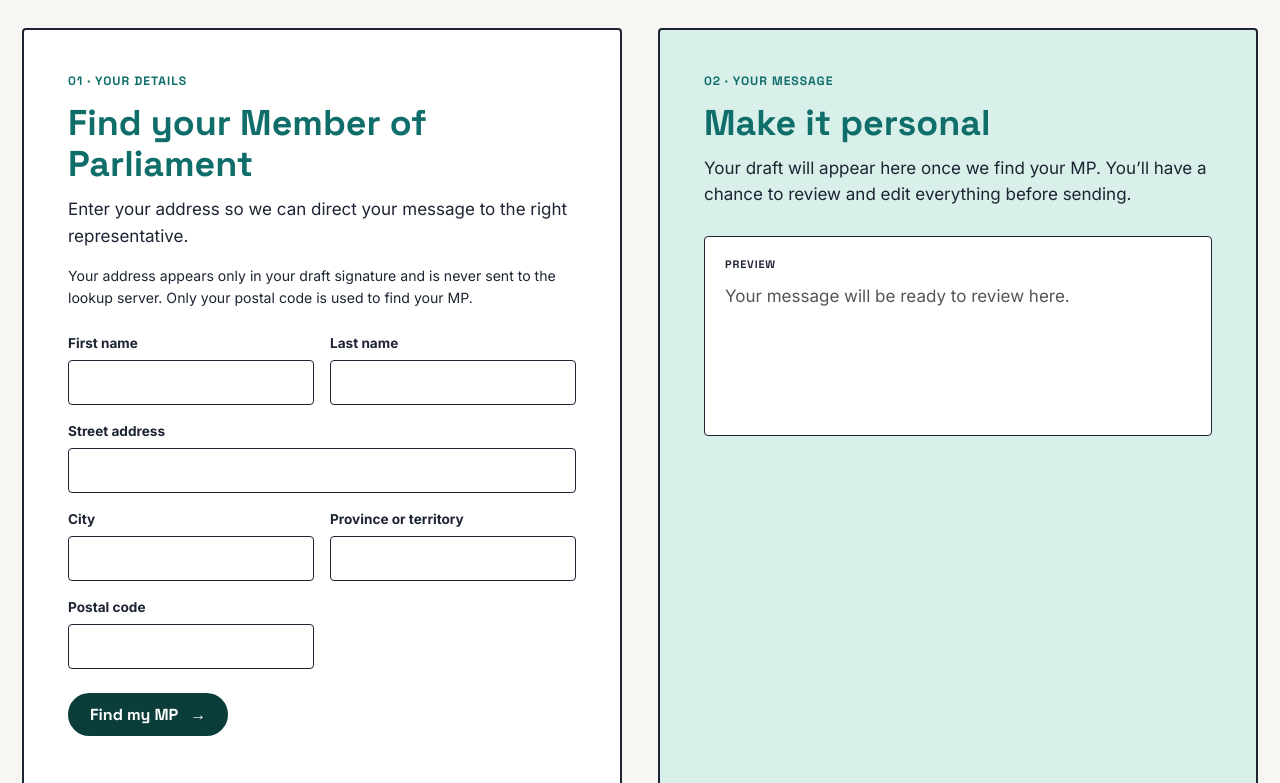
editable draft flow › fetches a letter for the MP riding and fills in the MP, riding, and visitor locally
Type "Ari" into the field labelled "First name". click: [191, 382]
box: top-left (68, 360), bottom-right (314, 405)
Type "Lee" into the field labelled "Last name". click: [453, 382]
box: top-left (330, 360), bottom-right (576, 405)
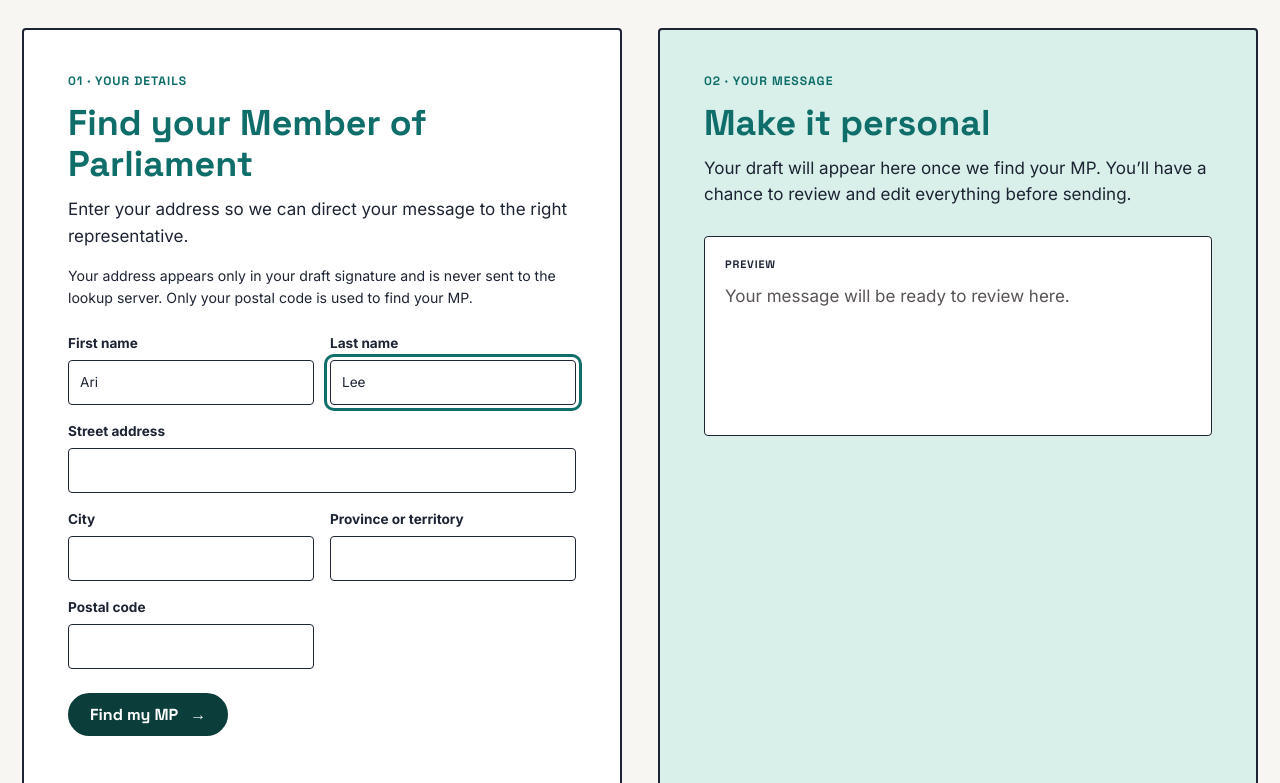
Type "10 Main St" into the field labelled "Street address". click: [322, 470]
box: top-left (68, 448), bottom-right (576, 493)
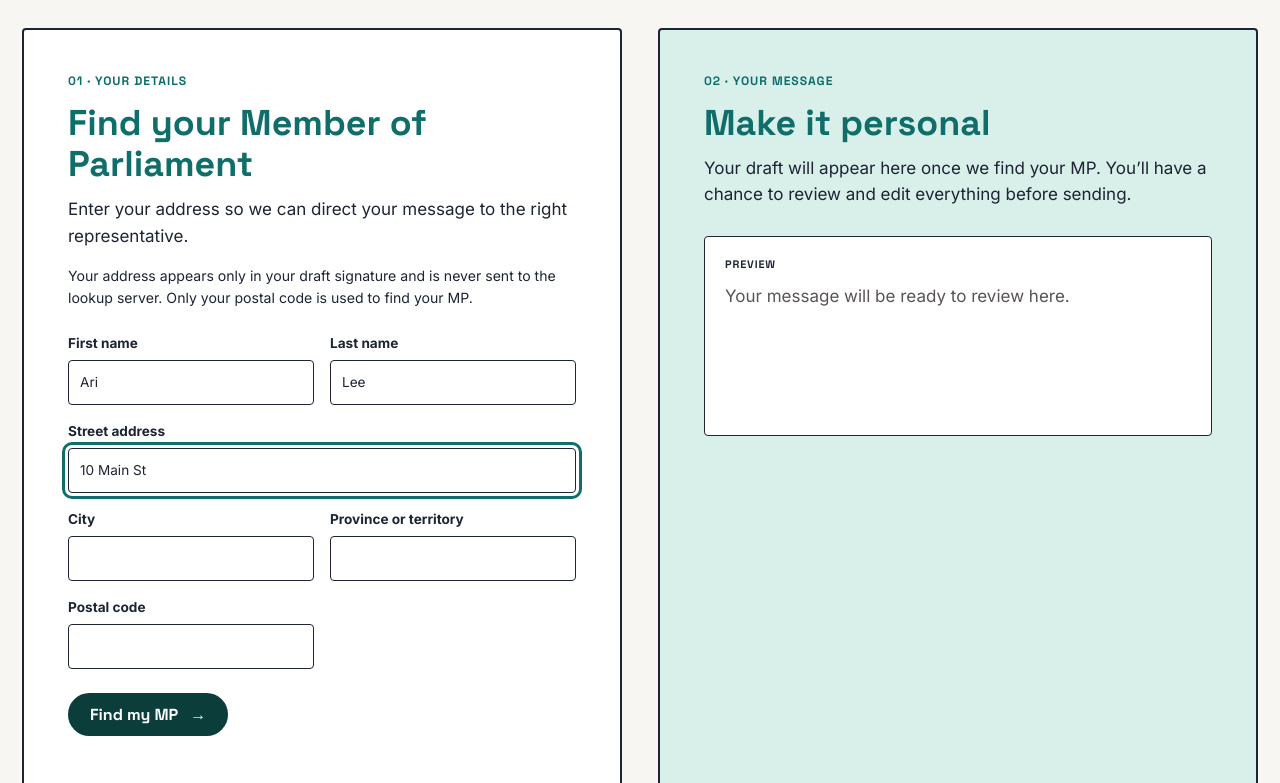
Type "Ottawa" into the field labelled "City". click: [191, 558]
box: top-left (68, 536), bottom-right (314, 581)
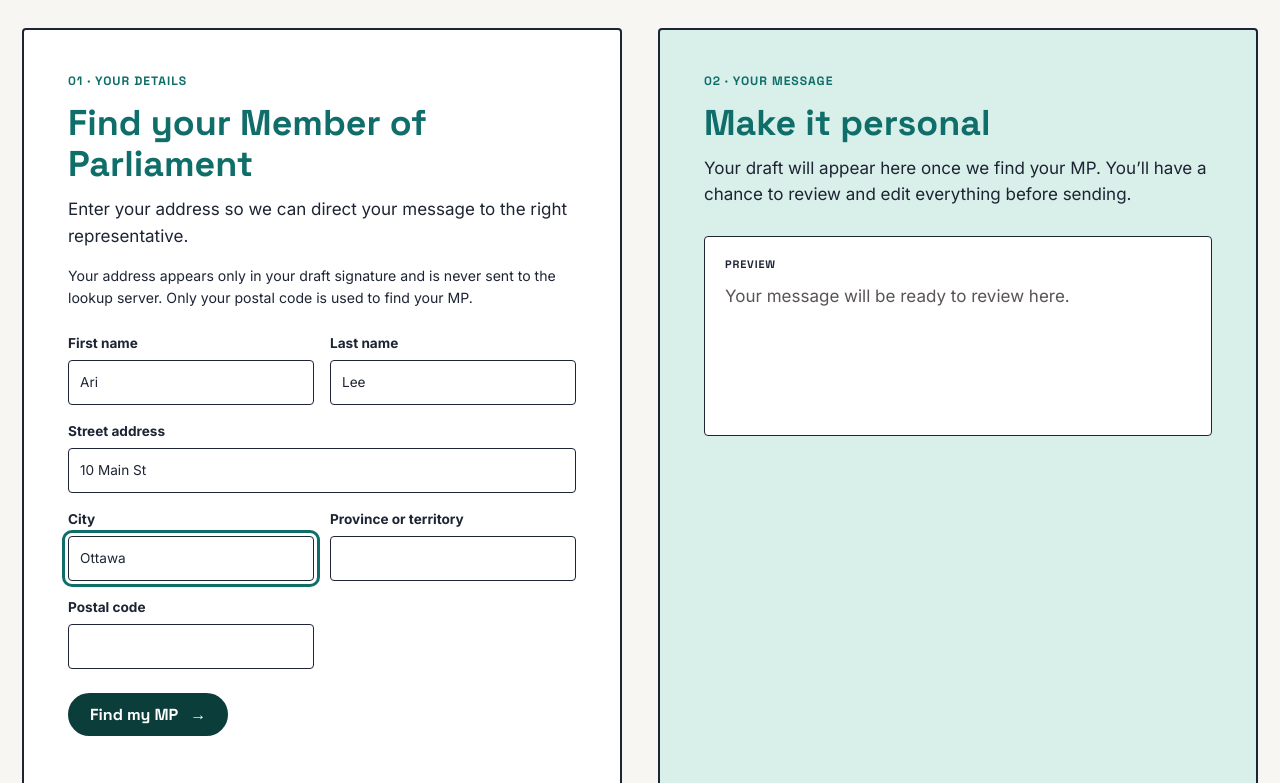
Type "ON" into the field labelled "Province or territory". click: [453, 558]
box: top-left (330, 536), bottom-right (576, 581)
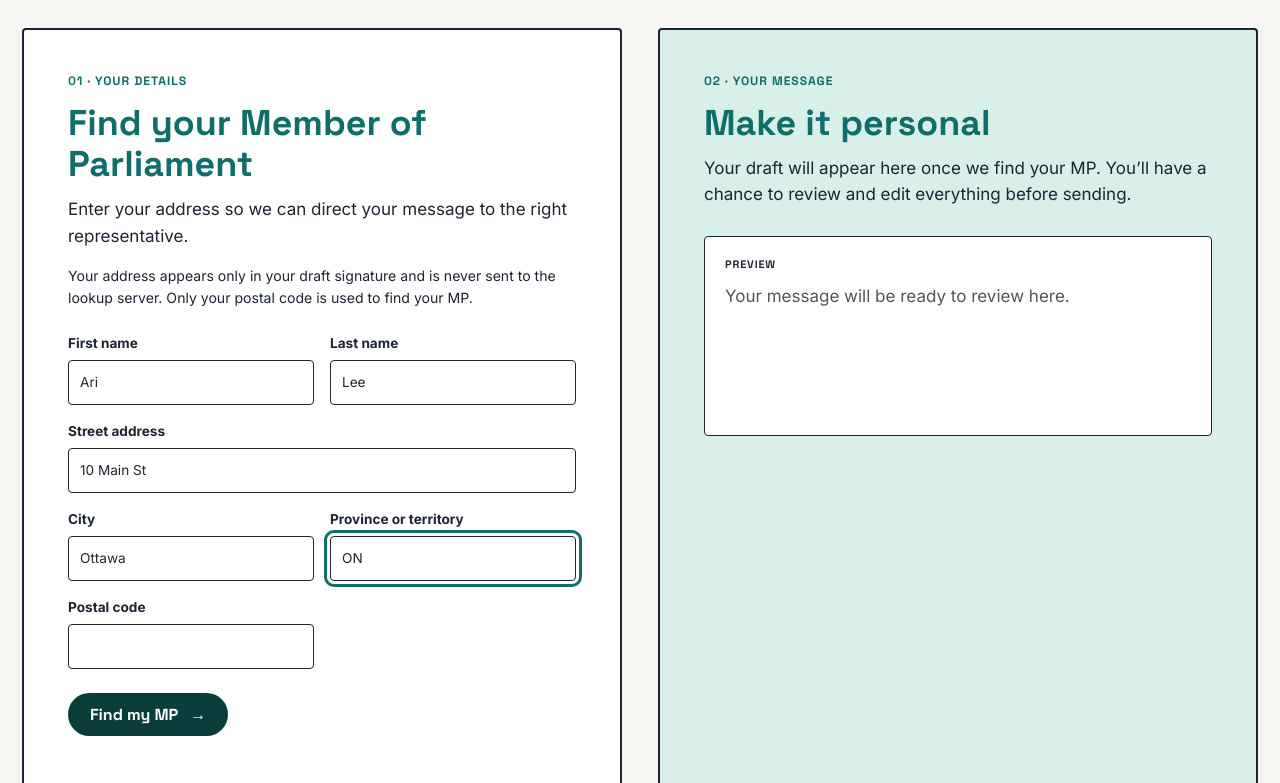
Type "K1A 0B1" into the field labelled "Postal code". click: [191, 646]
box: top-left (68, 624), bottom-right (314, 669)
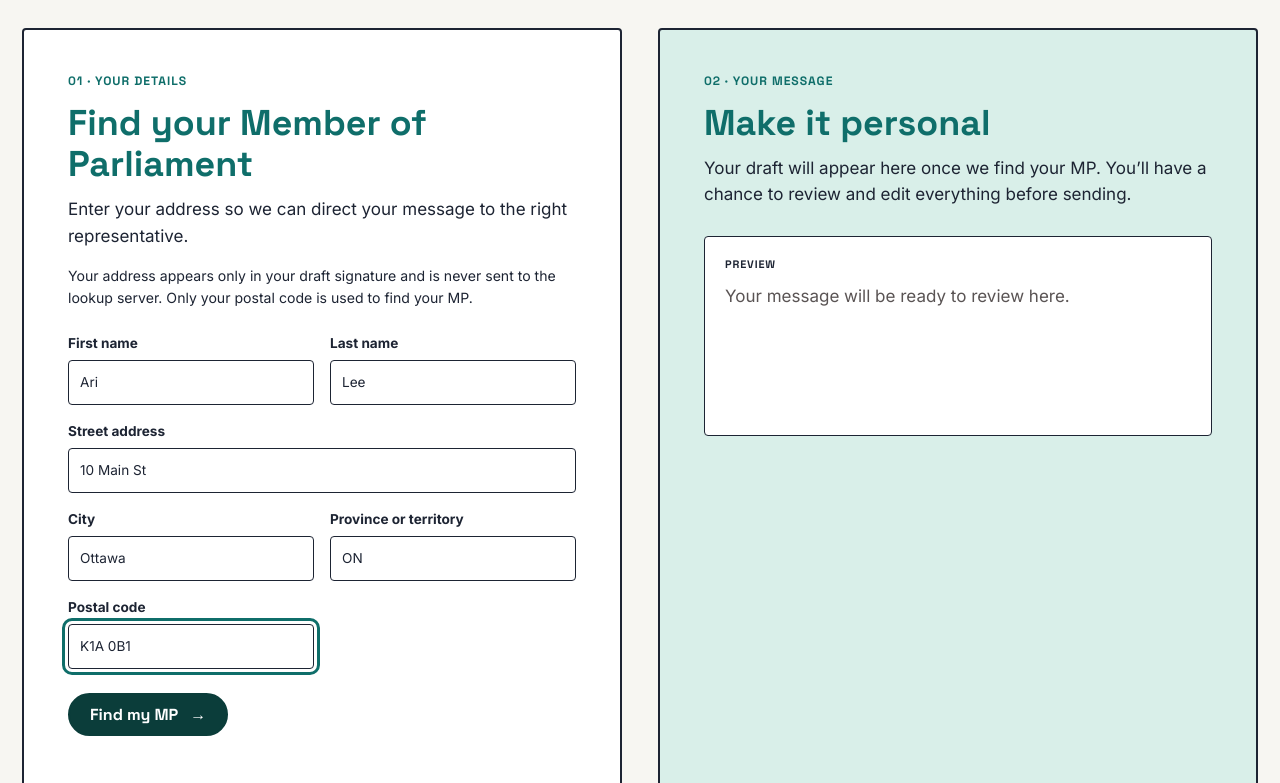
Click the button "Find my MP →". click: [148, 714]
box: top-left (68, 693), bottom-right (228, 736)
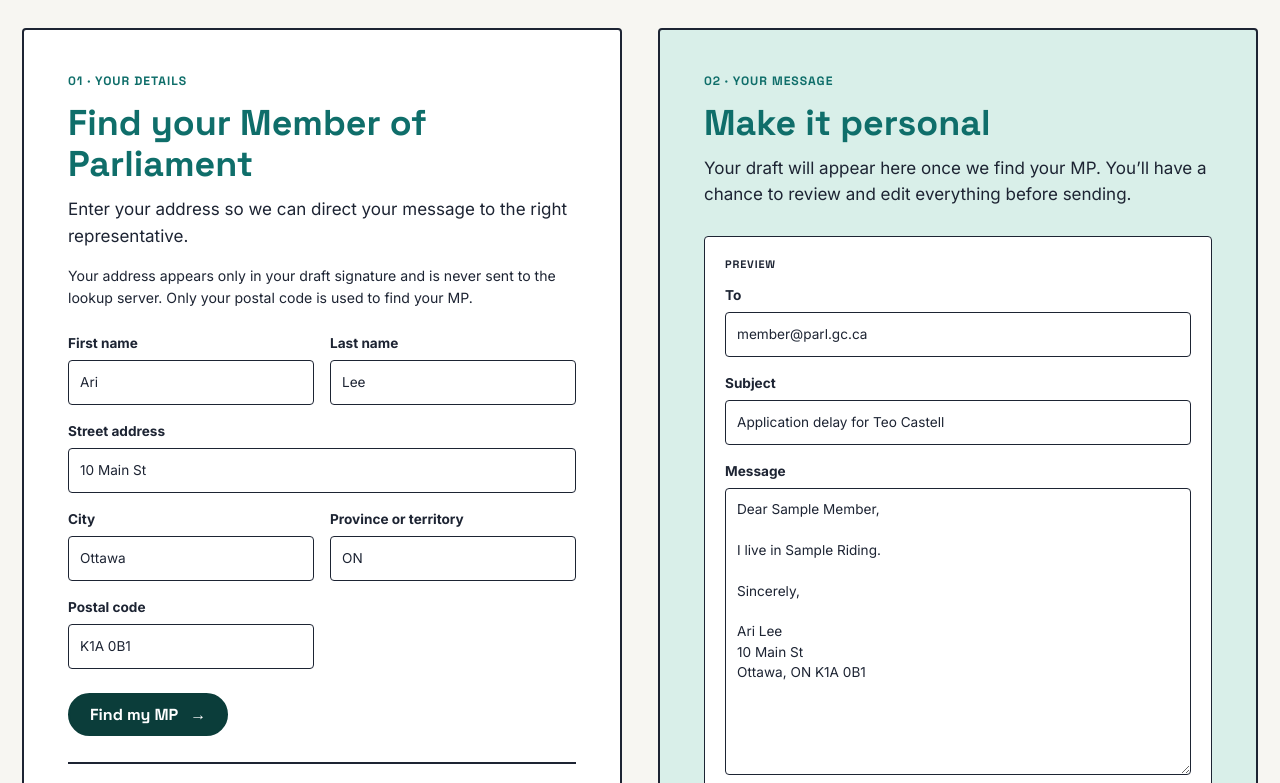
Check: the field labelled "Subject" holds "Application delay for Teo Castell", box top-left (725, 400), bottom-right (1191, 445)
Check: the field labelled "To" holds "member@parl.gc.ca", box top-left (725, 312), bottom-right (1191, 357)
